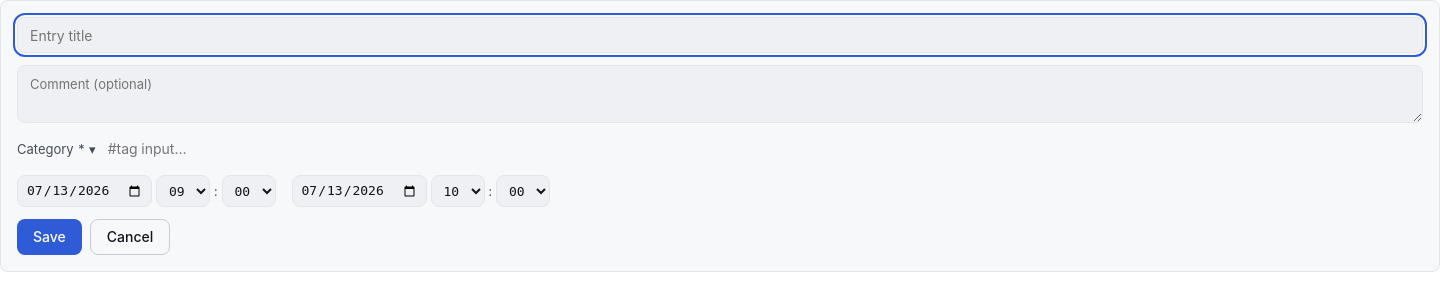
Scenario: ManualEntryForm › clears the tag chips and TagEditor's draft text after a successful submit
The width and height of the screenshot is (1440, 289).
In the field named "Manual entry title": coordinates (720, 35) [17,17,1423,53], type "Write docs"
Click the button labelled "Category * ▾": coordinates (56, 149) [17,139,96,159]
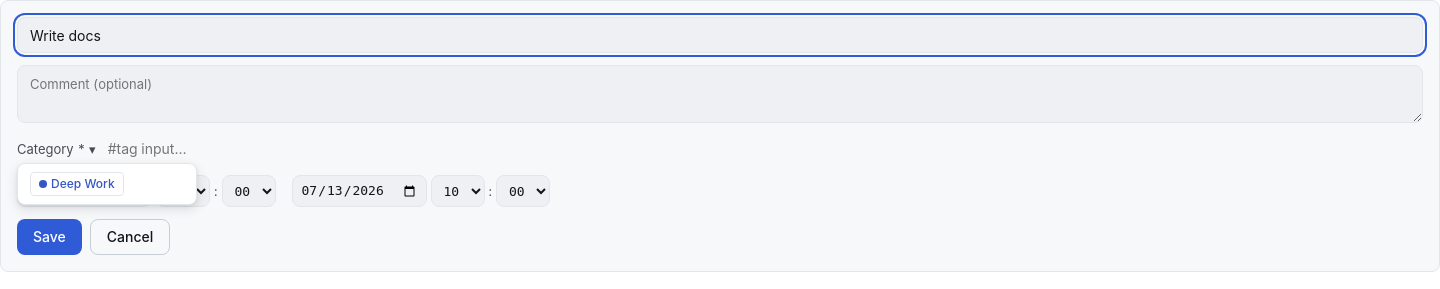
Click the button "Deep Work": coordinates (107, 184) [22,168,192,200]
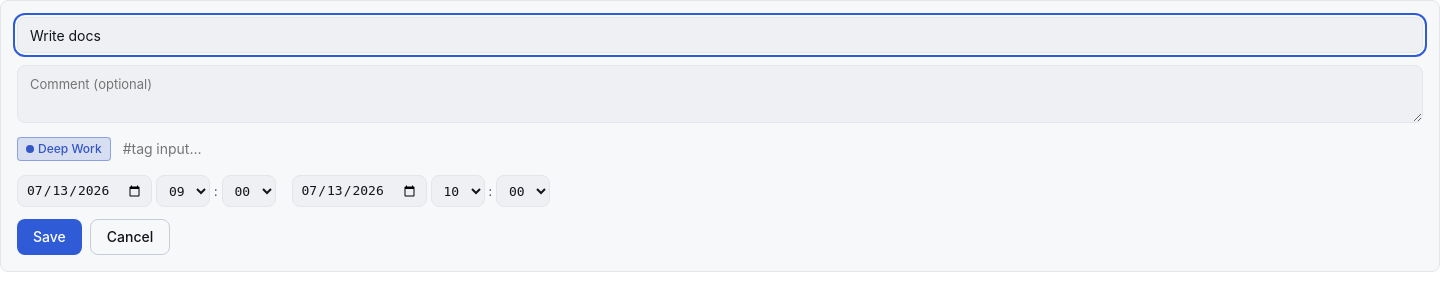
In the dropdown named "Add tag": coordinates (773, 149) [123,135,1423,163], type "focus"
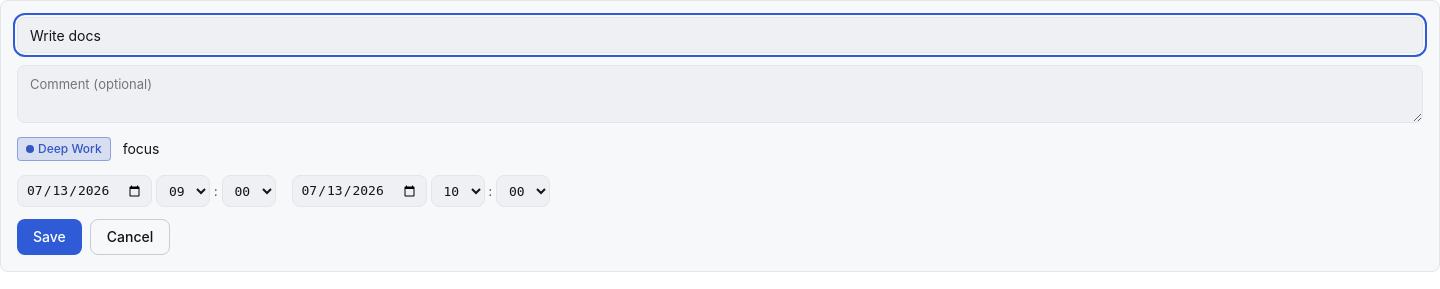
Press Enter in the dropdown named "Add tag", box [123,135,1423,163]
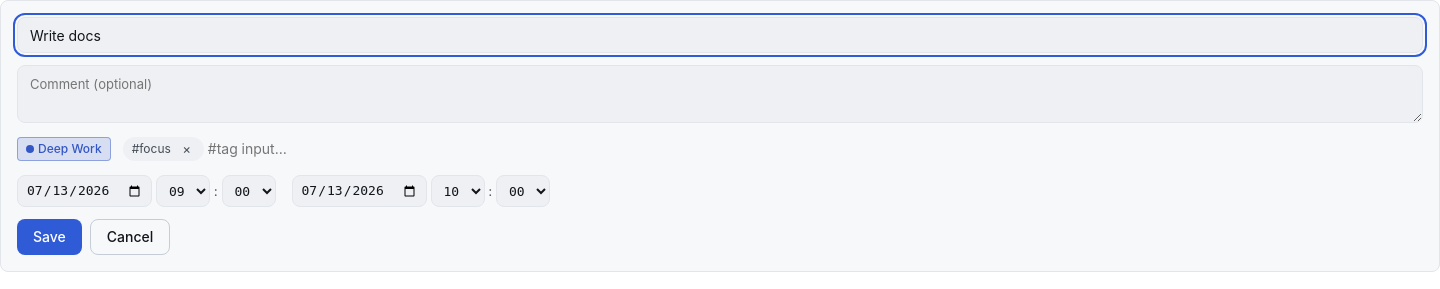
# Leave an uncommitted draft too — TagEditor's own internal state, not just the chips.
In the dropdown named "Add tag": coordinates (815, 149) [208,135,1423,163], type "urg"
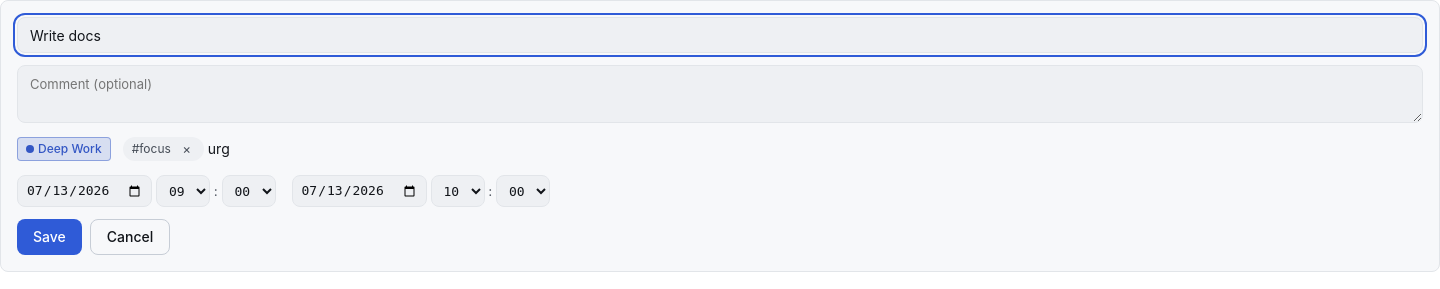
Click the button "Save": coordinates (49, 237) [17,219,82,255]
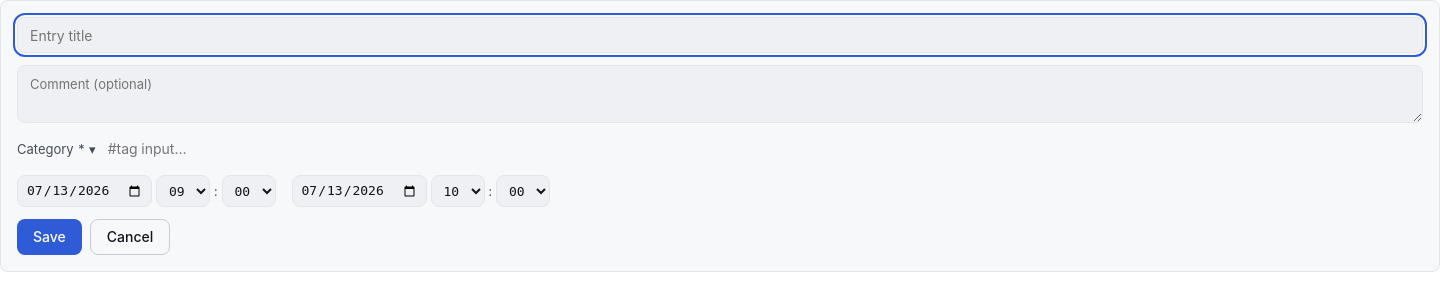
Expected: the text "#focus" is gone
Expected: the dropdown named "Add tag" is empty, [108,135,1423,163]
